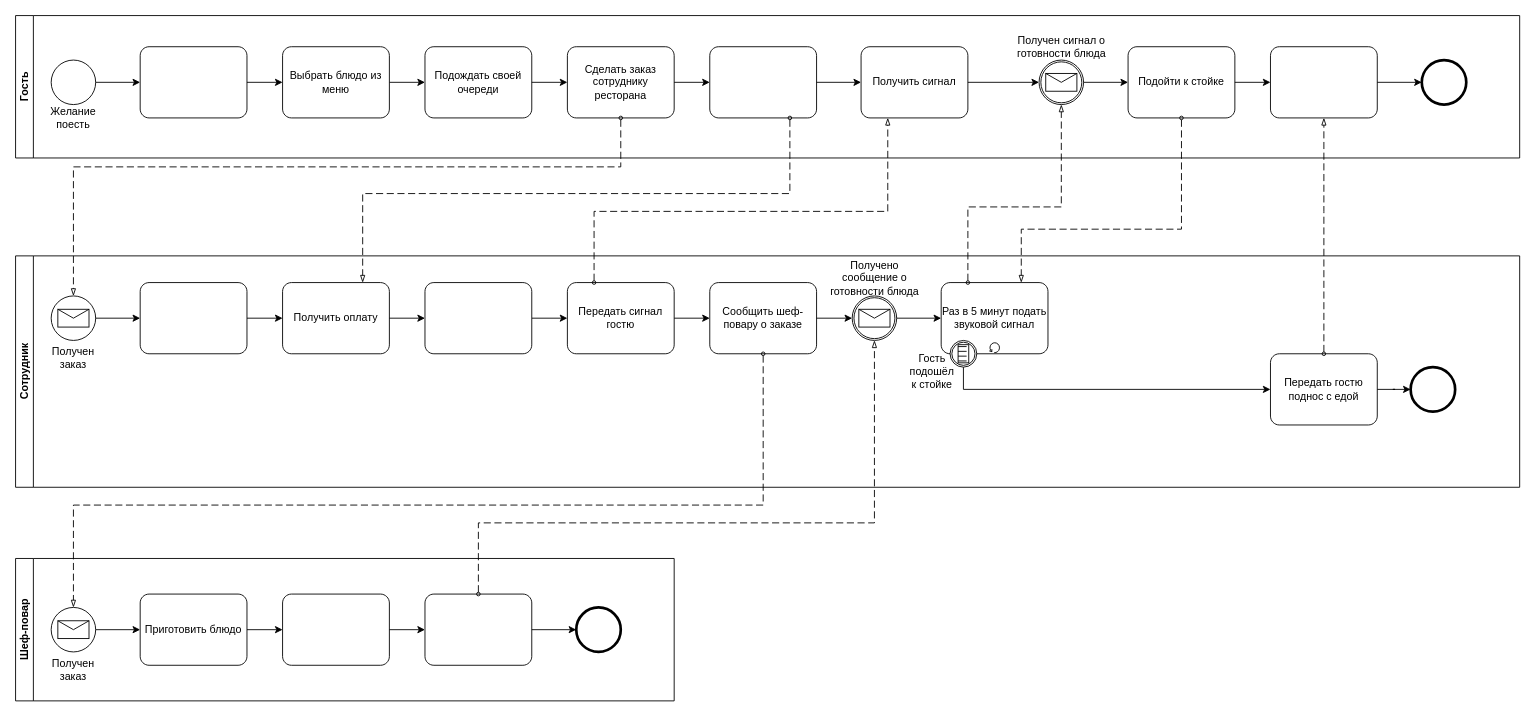
Image size: 1535x716. Some labels were removed from this diagram. The box of each missing label's shape, as (x1, y1, x2, y2) in pixels:
Ввести заказ в систему POS-кассы: (139, 282, 247, 354)
Настроить звуковой сигнал: (424, 282, 532, 354)
Оплатить заказ: (709, 46, 817, 118)
Получить поднос с едой: (1270, 46, 1377, 118)
Прийти в ресторан: (139, 46, 247, 118)
Расставить блюдо на сервировочной полке: (282, 593, 389, 665)
Сообщить сотруднику о готовности блюда: (424, 593, 532, 665)
